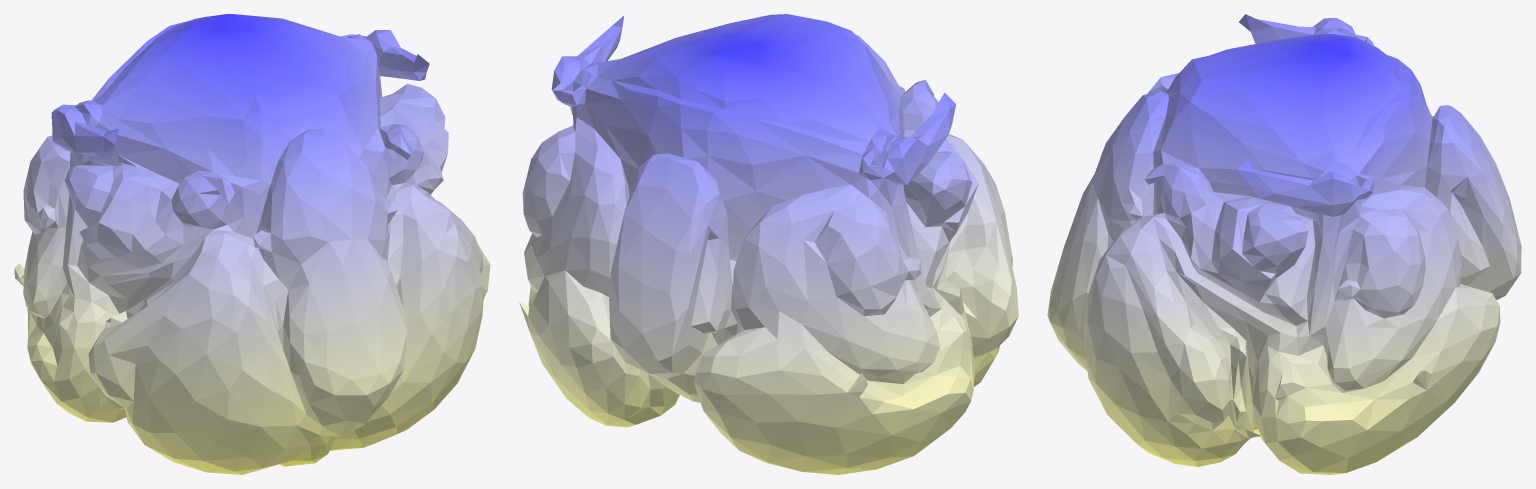
The model's file is 92_cyb_laser_gradient_fish_scales_2923_2026_10_03_b5980a.glb.
3 views of the same model, side by side, from view 1: azimuth 30°, elevation 25°; view 2: azimuth 150°, elevation 25°; view 3: azimuth 270°, elevation 25° (orthographic). The views are drawn at different scales.
Visible parts, largest first — view 1: geometry_0; view 2: geometry_0; view 3: geometry_0.
Part boxes in pixels (x1,y1,x2,y2): geometry_0: (14,14,490,474); geometry_0: (519,14,1018,474); geometry_0: (1047,14,1521,474).
Bounding box in the file's own units: 0.984 × 0.9074 × 0.9953.
